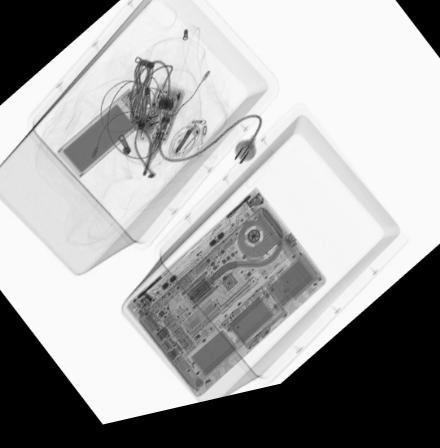Powerbank: (58, 91, 154, 183)
